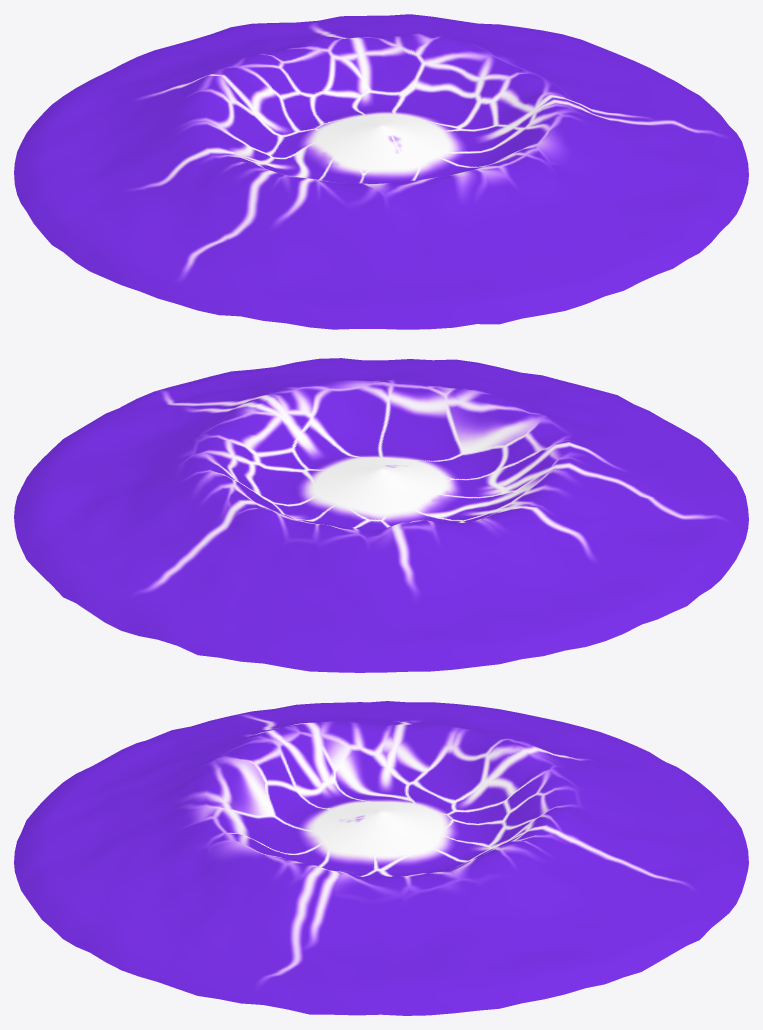
Rendered from magma_arcane.glb.
The picture shows the model from 3 angles, top to bottom: view 1: azimuth 30°, elevation 25°; view 2: azimuth 150°, elevation 25°; view 3: azimuth 270°, elevation 25°; orthographic projection.
Parts seen in each view (by area): view 1: magma; view 2: magma; view 3: magma.
Boxes of the visible parts, <box> form: magma: <box>14,14,748,329</box>; magma: <box>14,358,748,672</box>; magma: <box>14,701,748,1015</box>.
Bounding box in the file's own units: 4 × 0.4326 × 4.
1 material, 1 textured.
